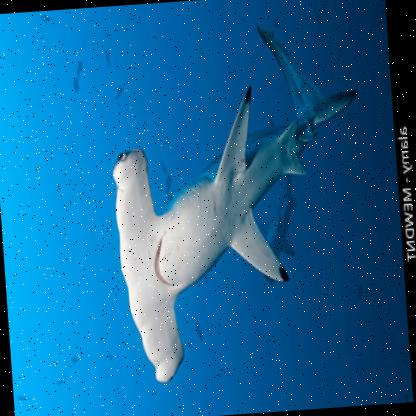hammerhead_Shark: (64, 15, 379, 406)
